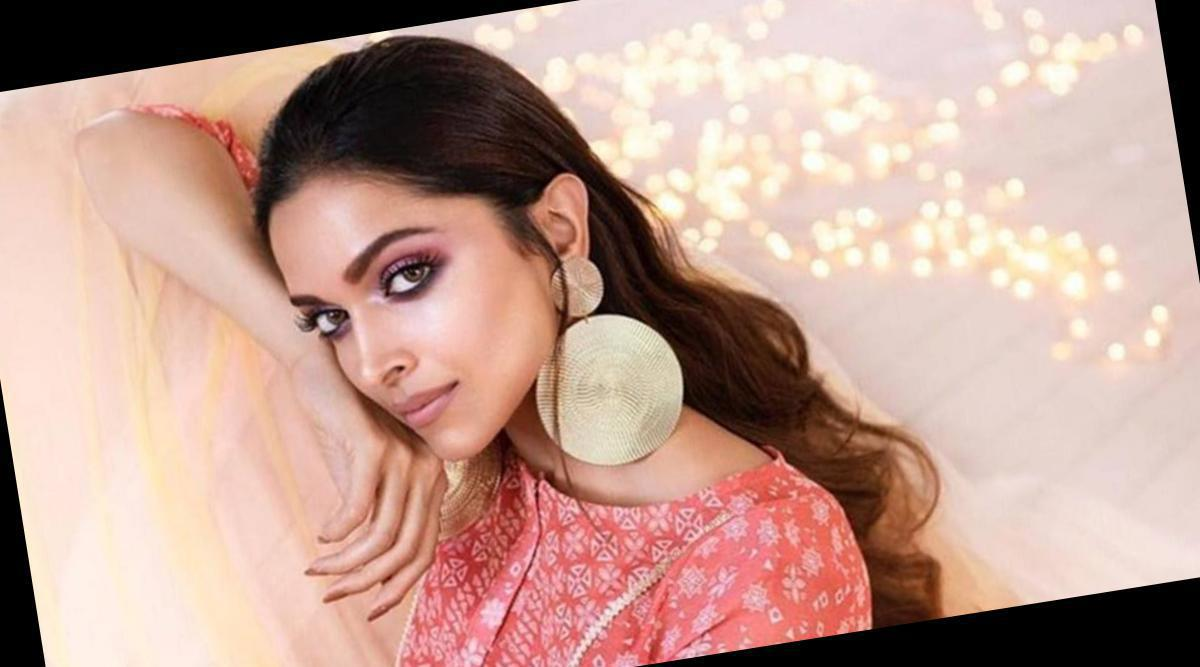Sober: (278, 207, 541, 428)
